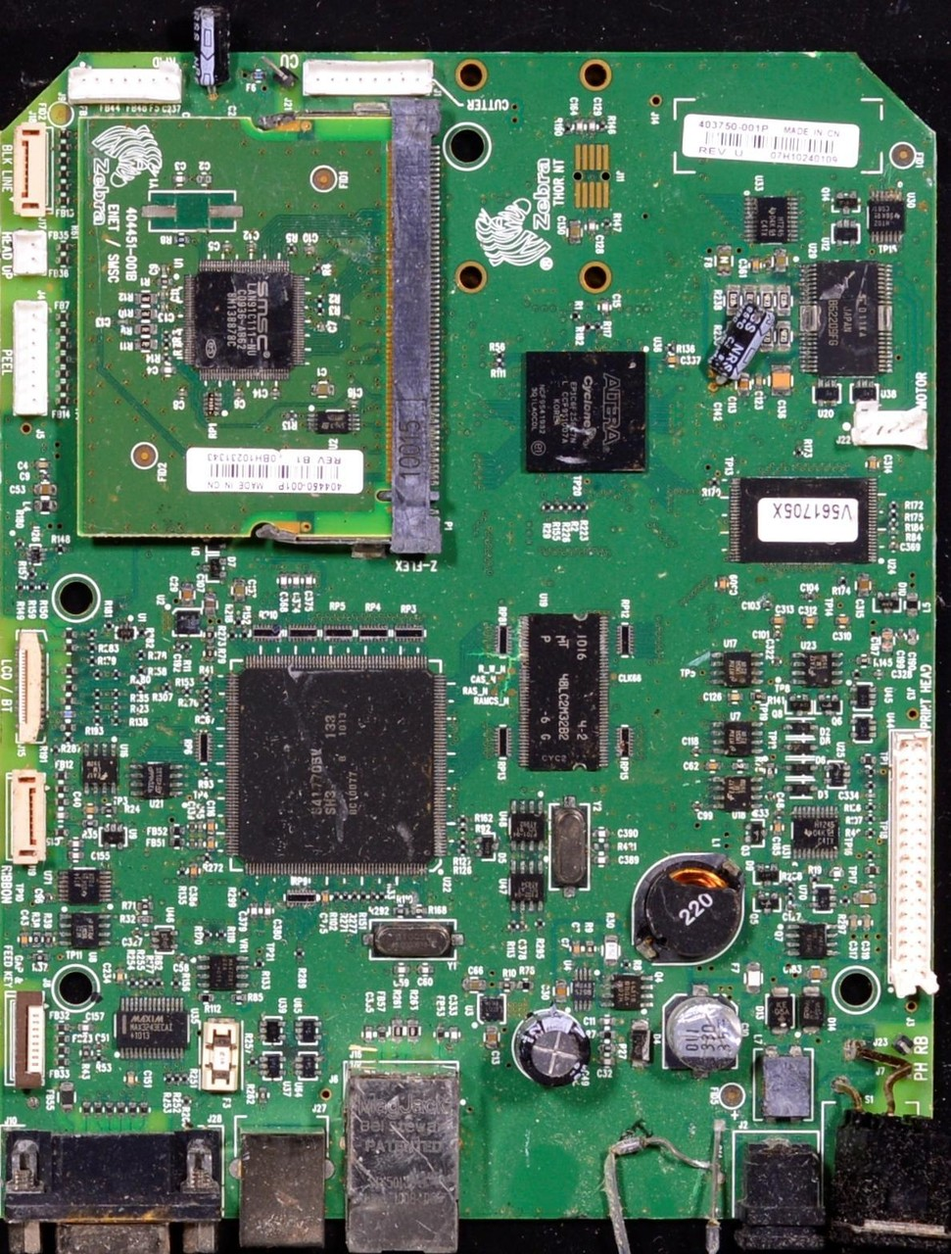Capacitor: (772, 365, 791, 399), (805, 967, 829, 980), (308, 383, 334, 395), (485, 1025, 497, 1050), (857, 574, 869, 598), (883, 627, 893, 655), (776, 248, 787, 272), (704, 762, 726, 773), (556, 979, 566, 1003), (854, 895, 875, 906), (724, 692, 745, 701), (740, 375, 749, 394), (767, 616, 784, 626), (835, 616, 849, 628), (719, 573, 727, 593), (572, 940, 580, 959), (749, 258, 759, 273), (775, 819, 781, 843), (869, 454, 877, 472), (802, 616, 818, 625), (126, 1071, 133, 1087), (756, 374, 763, 390), (117, 967, 122, 988), (323, 890, 329, 906), (20, 930, 26, 946)
Connector: (890, 731, 936, 995), (68, 68, 182, 107), (306, 62, 440, 93), (6, 774, 47, 863), (18, 629, 45, 745), (14, 126, 47, 220)
IC: (227, 655, 446, 875), (524, 353, 650, 475), (186, 262, 303, 381), (519, 614, 608, 770), (728, 474, 874, 563), (798, 263, 894, 375), (110, 995, 189, 1057), (794, 804, 842, 860), (746, 196, 797, 244), (58, 911, 112, 950), (81, 743, 119, 796), (196, 955, 248, 993), (869, 191, 905, 243), (131, 762, 181, 799), (711, 778, 765, 812), (793, 649, 841, 686), (510, 859, 545, 909), (508, 799, 542, 850), (712, 652, 765, 684), (59, 871, 112, 902), (713, 721, 761, 755), (303, 412, 364, 431), (572, 967, 595, 1013), (174, 608, 205, 637), (480, 992, 506, 1024), (150, 924, 178, 953), (849, 681, 876, 710), (852, 714, 877, 743), (259, 1054, 283, 1083), (295, 1051, 317, 1082), (813, 884, 835, 913), (262, 1015, 282, 1046), (297, 1019, 316, 1045)
Resistor: (134, 309, 159, 320), (134, 324, 159, 335), (135, 339, 163, 348), (133, 293, 158, 303), (136, 900, 152, 909), (136, 916, 153, 923)
Transistor/Diode: (600, 975, 651, 1012), (788, 922, 835, 961), (745, 821, 765, 851), (832, 222, 859, 244), (784, 693, 811, 715), (817, 692, 842, 715), (755, 891, 782, 910), (833, 191, 858, 211)
